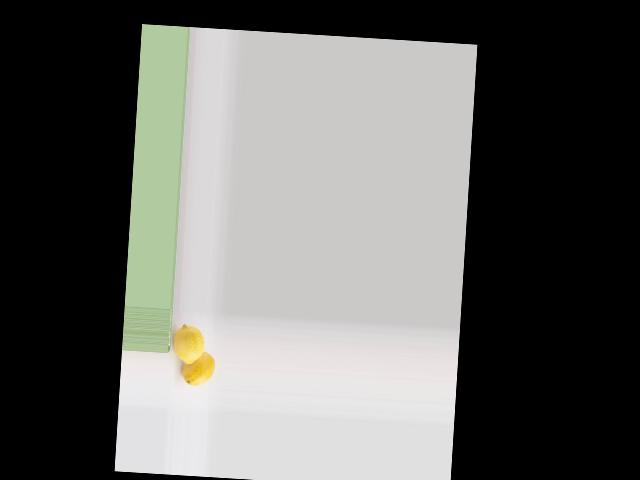lemon: (183, 352, 216, 388)
